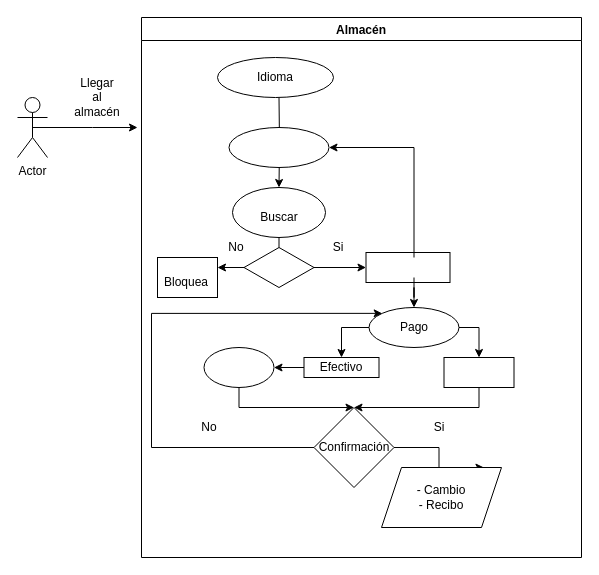
Some shapes in this 599 by 575 pixel diagram are drawn without their labels. The box of each missing label's shape, as (x1, y1, x2, y2) in pixels:
Billetes: (203, 346, 274, 388)
Escanea: (228, 126, 329, 168)
Existe: (243, 246, 314, 288)
Registrar: (365, 252, 450, 282)
Targeta Credito: (443, 356, 514, 388)
